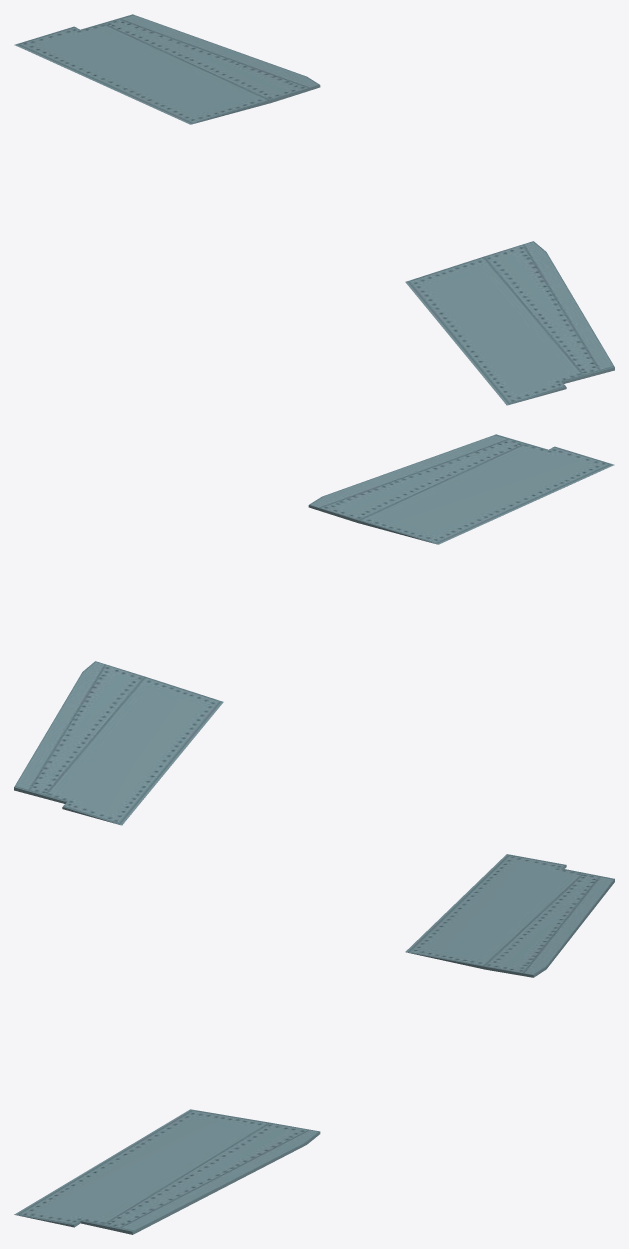
File: mig25flapsup.glb
3 renders of one model, top to bottom at view 1: azimuth 30°, elevation 25°; view 2: azimuth 150°, elevation 25°; view 3: azimuth 330°, elevation 25°, orthographic.
Parts seen in each view (by area): view 1: Object12-FACES (×2); view 2: Object12-FACES (×2); view 3: Object12-FACES (×2).
Boxes of the visible parts, <box> form: Object12-FACES (×2): <box>14,14,614,405</box>; Object12-FACES (×2): <box>14,434,614,825</box>; Object12-FACES (×2): <box>14,854,614,1234</box>.
Bounding box in the file's own units: 1.51 × 0.1877 × 7.73.
1 material, 1 textured.
